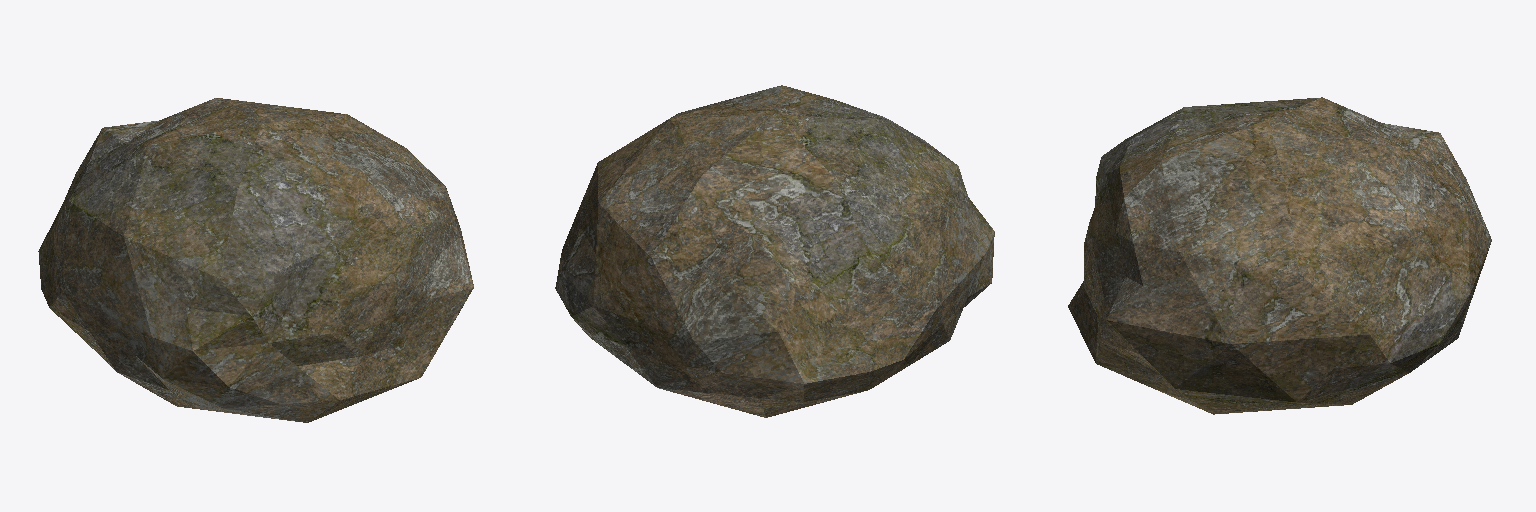
3 views of the same model, side by side, from view 1: azimuth 30°, elevation 25°; view 2: azimuth 150°, elevation 25°; view 3: azimuth 270°, elevation 25° (orthographic).
Parts seen in each view (by area): view 1: ICO球.004; view 2: ICO球.004; view 3: ICO球.004.
Boxes of the visible parts, <box> form: ICO球.004: <box>38,98,473,422</box>; ICO球.004: <box>555,85,994,417</box>; ICO球.004: <box>1068,97,1491,414</box>.
Size of the model in its own units: 42.41 by 30.68 by 43.1.
Materials: 1 (1 with a texture image).